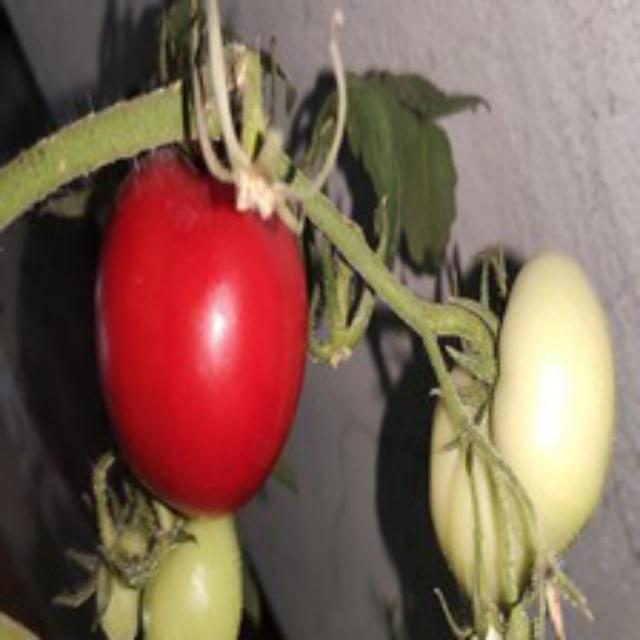tomato: (88, 140, 324, 550)
